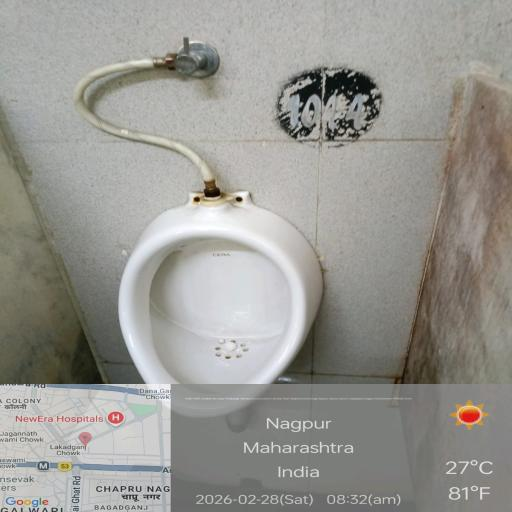clean_floor: (37, 10, 502, 143)
clean_urinal: (68, 166, 358, 440)
